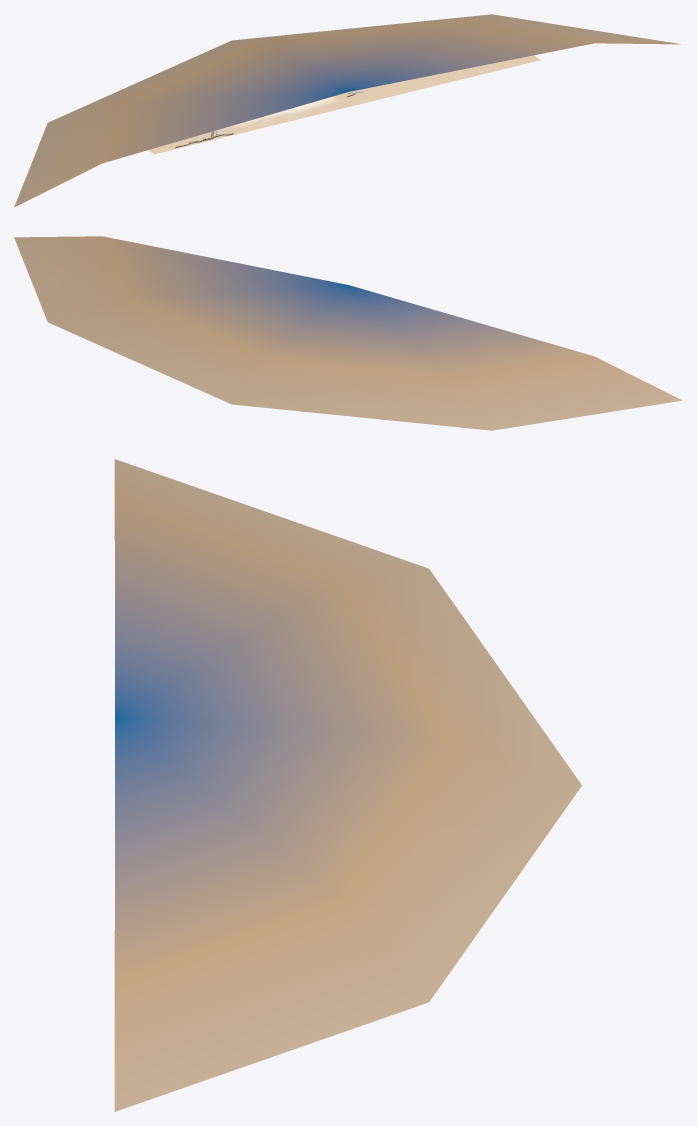
The model's file is Desert 06.fbx.
The picture shows the model from 3 angles, top to bottom: view 1: azimuth 30°, elevation 25°; view 2: azimuth 150°, elevation 25°; view 3: azimuth 270°, elevation 25°; orthographic projection. The views are drawn at different scales.
Parts seen in each view (by area): view 1: Light_01, Bg_02; view 2: Light_01; view 3: Light_01.
Boxes of the visible parts, left/top/right/bottom form: Light_01: left=14, top=14, right=680, bottom=207; Bg_02: left=148, top=55, right=540, bottom=154; Light_01: left=14, top=236, right=682, bottom=430; Light_01: left=114, top=459, right=581, bottom=1111.
Size of the model in its own units: 983996 by 47831 by 297667.
